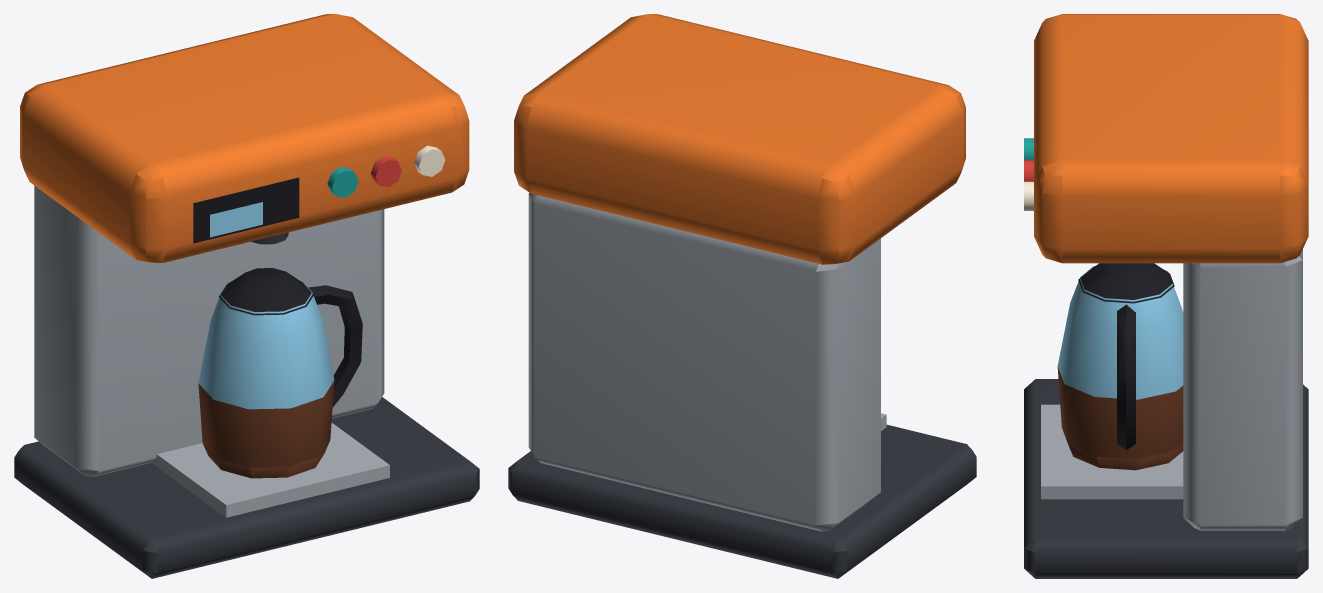
File: Cafetera.fbx
3 renders of one model, left to right at view 1: azimuth 30°, elevation 25°; view 2: azimuth 150°, elevation 25°; view 3: azimuth 270°, elevation 25°, orthographic. The views are drawn at different scales.
Visible parts, largest first — view 1: Cafetera; view 2: Cafetera; view 3: Cafetera.
Boxes of the visible parts, box(x1,y1,x2,y2) form: Cafetera: box(14, 14, 479, 578); Cafetera: box(508, 14, 976, 578); Cafetera: box(1024, 14, 1308, 578).
Bounding box in the file's own units: 1.4 × 1.6 × 1.07.
1 material, 1 textured.
